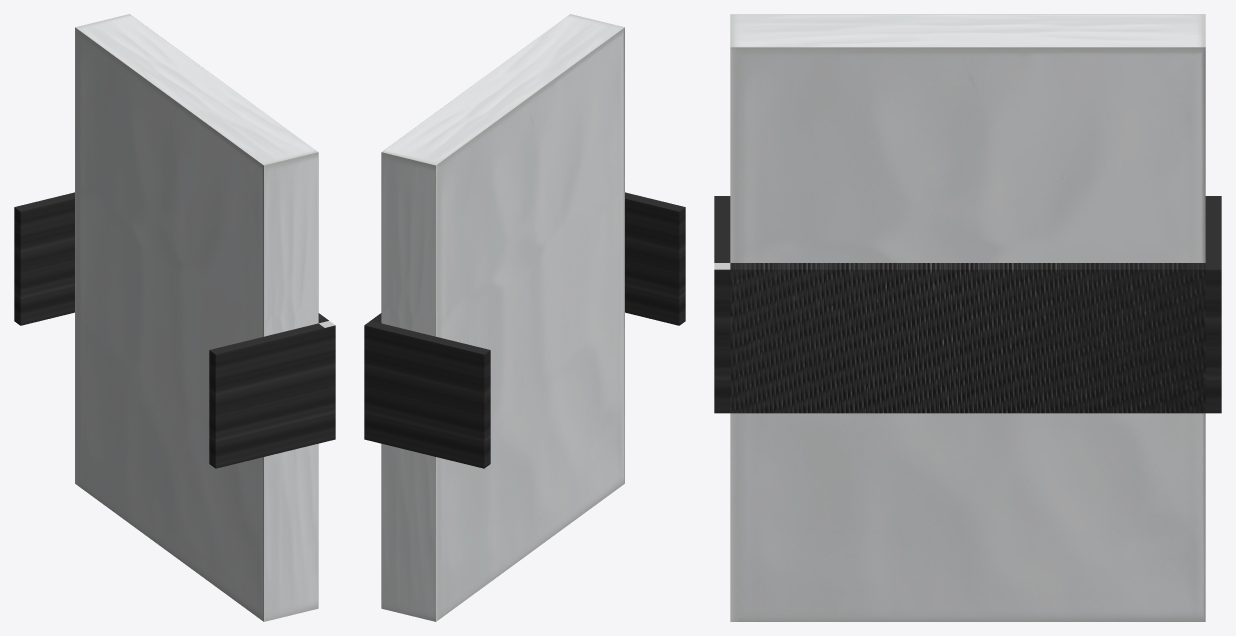
Rendered from WallLamp002.FBX.
The picture shows the model from 3 angles, left to right: view 1: azimuth 30°, elevation 25°; view 2: azimuth 150°, elevation 25°; view 3: azimuth 270°, elevation 25°; orthographic projection. The views are drawn at different scales.
Visible parts, largest first — view 1: WallLamp002; view 2: WallLamp002; view 3: WallLamp002.
Part boxes in pixels (x1,y1,x2,y2): WallLamp002: (14, 14, 335, 621); WallLamp002: (364, 14, 685, 621); WallLamp002: (714, 14, 1221, 621).
Size of the model in its own units: 11 by 40 by 32.
